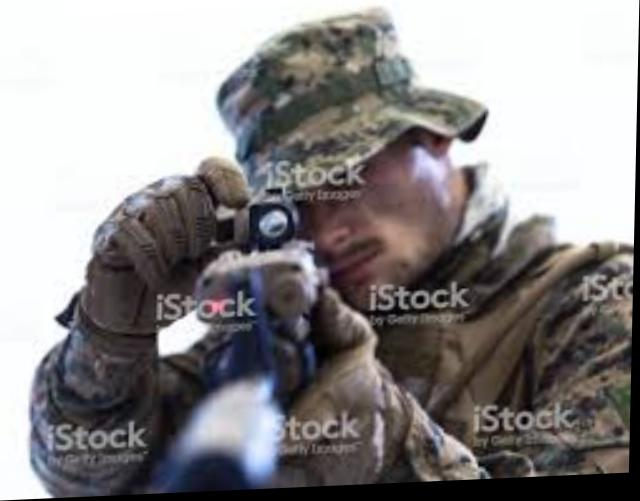other: (28, 3, 639, 495)
